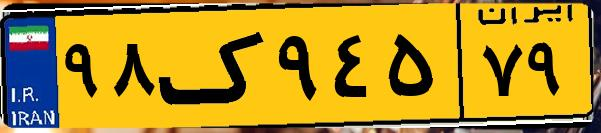4: (330, 28, 385, 110)
5: (385, 28, 445, 110)
7: (475, 38, 525, 113)
8: (110, 28, 158, 98)
9: (270, 28, 330, 110), (57, 26, 110, 100), (525, 38, 570, 115)
ک: (158, 12, 270, 120)
